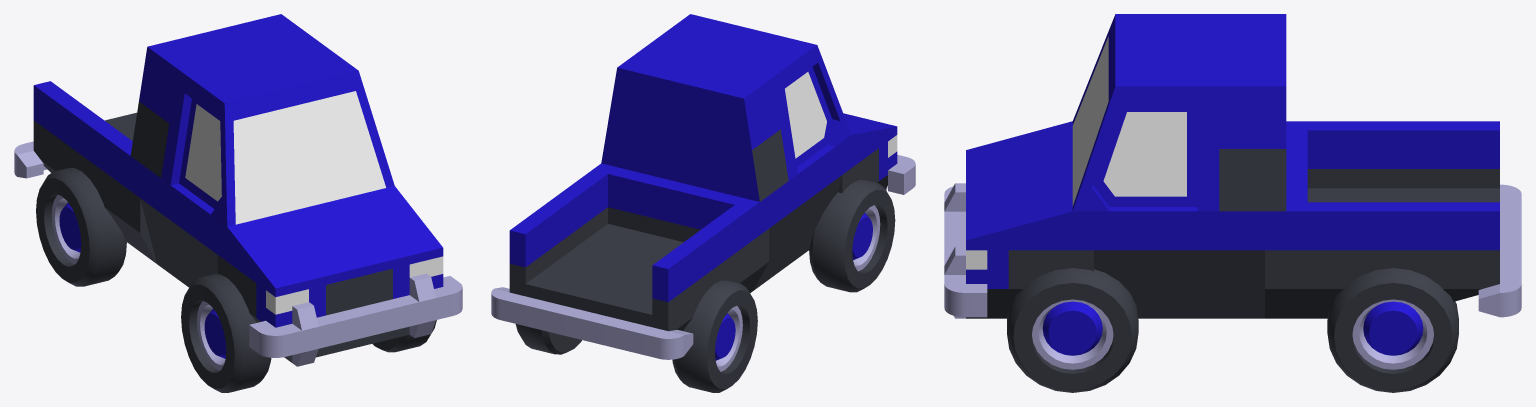
The model's file is BluePickup.fbx.
3 renders of one model, left to right at view 1: azimuth 30°, elevation 25°; view 2: azimuth 150°, elevation 25°; view 3: azimuth 270°, elevation 25°, orthographic. The views are drawn at different scales.
Visible parts, largest first — view 1: mergedBlocks; view 2: mergedBlocks; view 3: mergedBlocks.
Part boxes in pixels (x1=…): mergedBlocks: x1=14, y1=14, x2=462, y2=392; mergedBlocks: x1=491, y1=14, x2=915, y2=392; mergedBlocks: x1=944, y1=14, x2=1521, y2=392.
Bounding box in the file's own units: 12.16 × 15.08 × 27.
